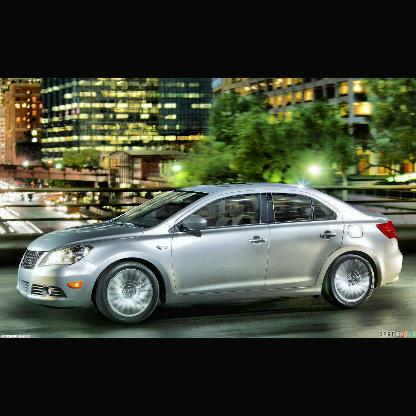Suzuki Kizashi Sedan 2012: (16, 183, 405, 321)
